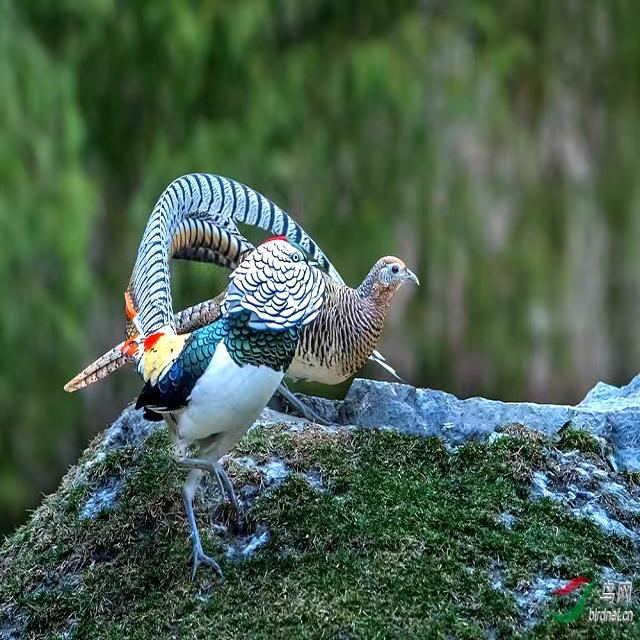Chrysolophus amherstiae: (128, 173, 344, 343)
